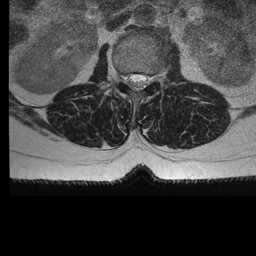CCS_normal: (132, 65, 139, 95)
LFS_normal: (147, 68, 155, 87)
LLS_normal: (139, 68, 147, 92)
RFS_normal: (118, 66, 125, 88)
RLS_normal: (125, 68, 132, 91)
